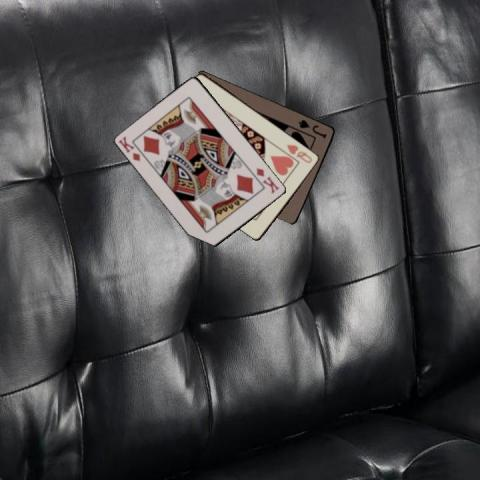Js: (295, 116, 329, 140)
Kd: (253, 164, 282, 194), (115, 133, 142, 163)
Qh: (284, 141, 314, 165)
